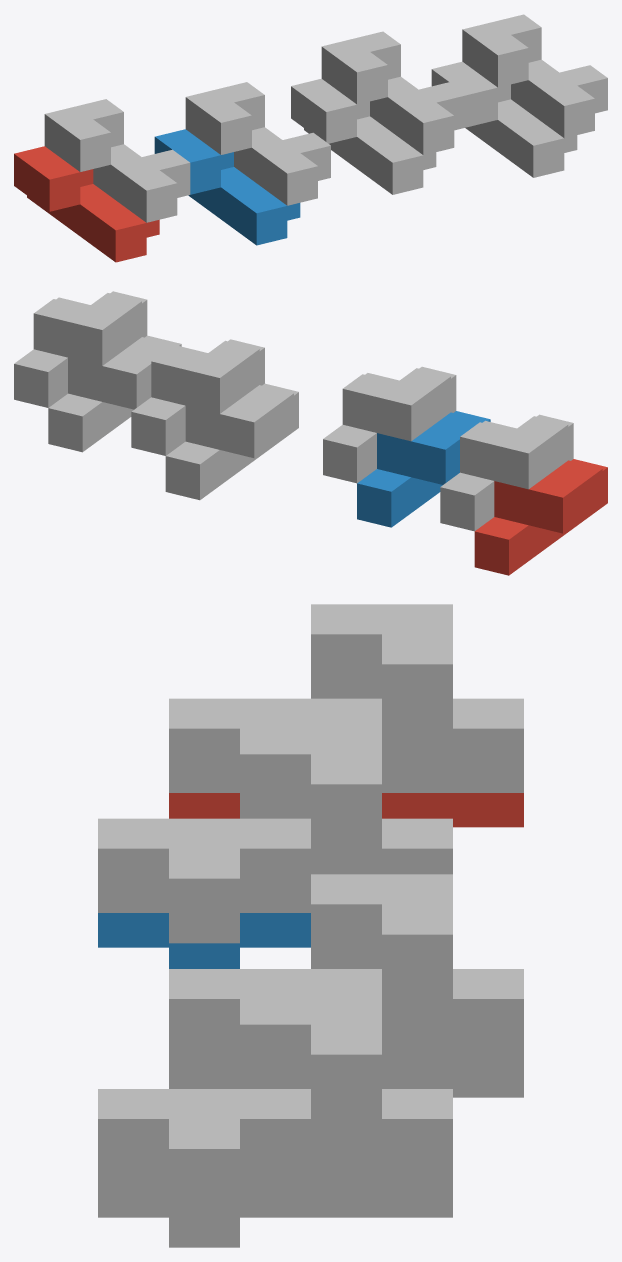
File: tiling.obj
3 views of the same model, one above another, from view 1: azimuth 30°, elevation 25°; view 2: azimuth 150°, elevation 25°; view 3: azimuth 270°, elevation 25° (orthographic). The views are drawn at different scales.
Parts seen in each view (by area): view 1: copy_1_domain_7, copy_1_domain_3, copy_1_domain_8, copy_1_domain_4, copy_1_domain_1, copy_1_domain_5, copy_1_domain_6, copy_1_domain_2; view 2: copy_1_domain_3, copy_1_domain_5, copy_1_domain_8, copy_1_domain_4, copy_1_domain_7, copy_1_domain_1, copy_1_domain_6, copy_1_domain_2; view 3: copy_1_domain_8, copy_1_domain_4, copy_1_domain_3, copy_1_domain_7, copy_1_domain_6, copy_1_domain_2, copy_1_domain_1, copy_1_domain_5.
Part boxes in pixels (x1,y1,x2,y2): copy_1_domain_7: (321, 31, 467, 155); copy_1_domain_3: (44, 99, 190, 222); copy_1_domain_8: (462, 14, 607, 138); copy_1_domain_4: (185, 82, 330, 205); copy_1_domain_1: (14, 146, 159, 262); copy_1_domain_5: (291, 78, 436, 194); copy_1_domain_6: (431, 61, 577, 177); copy_1_domain_2: (154, 129, 300, 245); copy_1_domain_3: (440, 414, 573, 531); copy_1_domain_5: (165, 383, 298, 500); copy_1_domain_8: (14, 291, 147, 407); copy_1_domain_4: (323, 366, 456, 483); copy_1_domain_7: (131, 339, 264, 455); copy_1_domain_1: (474, 459, 607, 575); copy_1_domain_6: (48, 335, 181, 452); copy_1_domain_2: (357, 411, 490, 527); copy_1_domain_8: (98, 994, 452, 1213); copy_1_domain_4: (98, 724, 452, 943); copy_1_domain_3: (169, 604, 523, 792); copy_1_domain_7: (169, 874, 523, 1063); copy_1_domain_6: (98, 1183, 452, 1247); copy_1_domain_2: (98, 913, 310, 968); copy_1_domain_1: (169, 793, 523, 827); copy_1_domain_5: (169, 1063, 523, 1097).
Size of the model in its own units: 17 by 3 by 6.
